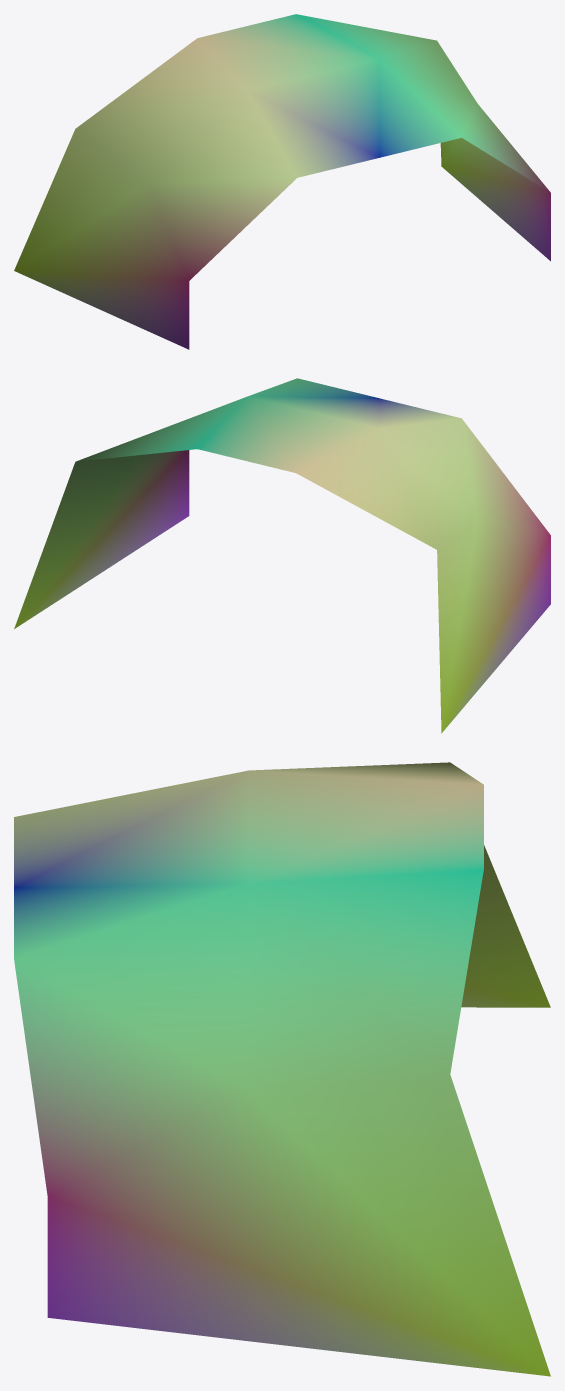
3 renders of one model, top to bottom at view 1: azimuth 30°, elevation 25°; view 2: azimuth 150°, elevation 25°; view 3: azimuth 270°, elevation 25°, orthographic. The views are drawn at different scales.
Parts seen in each view (by area): view 1: part; view 2: part; view 3: part.
Boxes of the visible parts, left/top/right/bottom form: part: left=14, top=14, right=550, bottom=349; part: left=14, top=378, right=550, bottom=733; part: left=14, top=762, right=550, bottom=1376.
Size of the model in its own units: 26 by 12 by 16.
